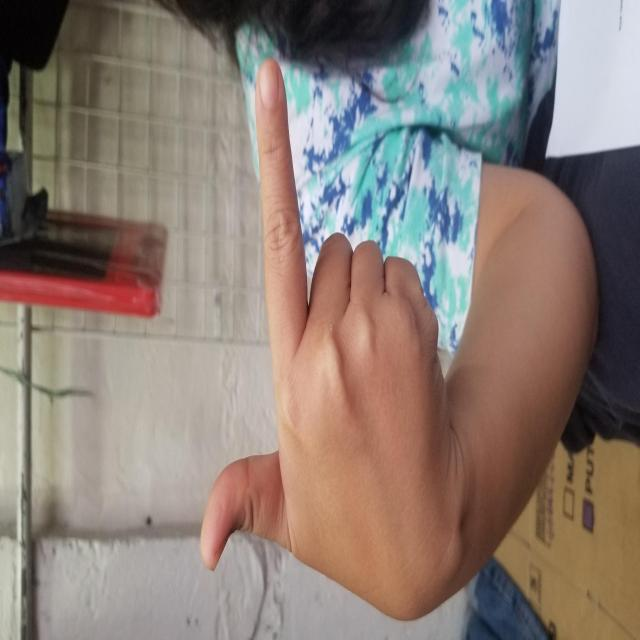G: (52, 199, 580, 451)
